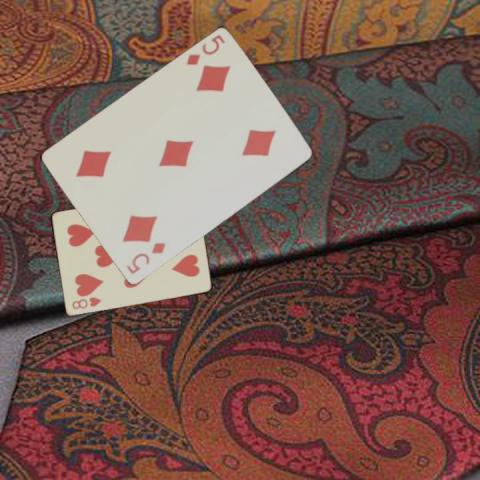5d: (123, 239, 167, 276), (182, 32, 226, 67)
8h: (68, 294, 103, 311)
